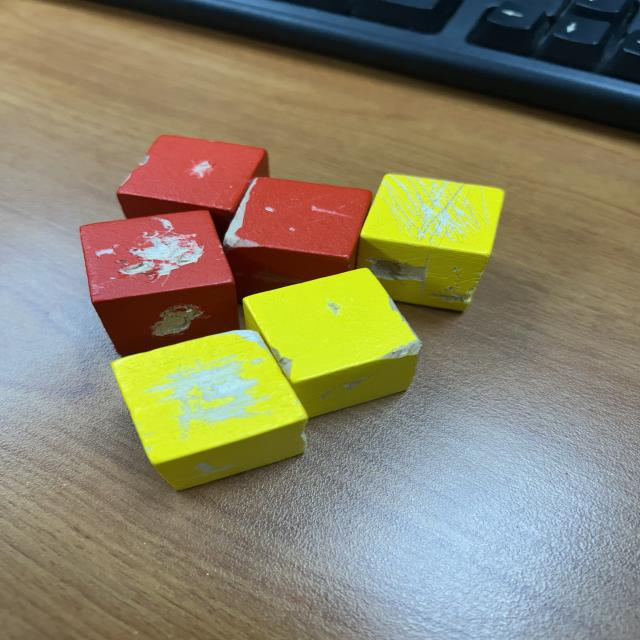broken: (109, 329, 309, 493), (241, 268, 423, 419), (78, 207, 242, 359), (353, 172, 505, 312), (221, 177, 373, 302), (116, 135, 271, 245)
